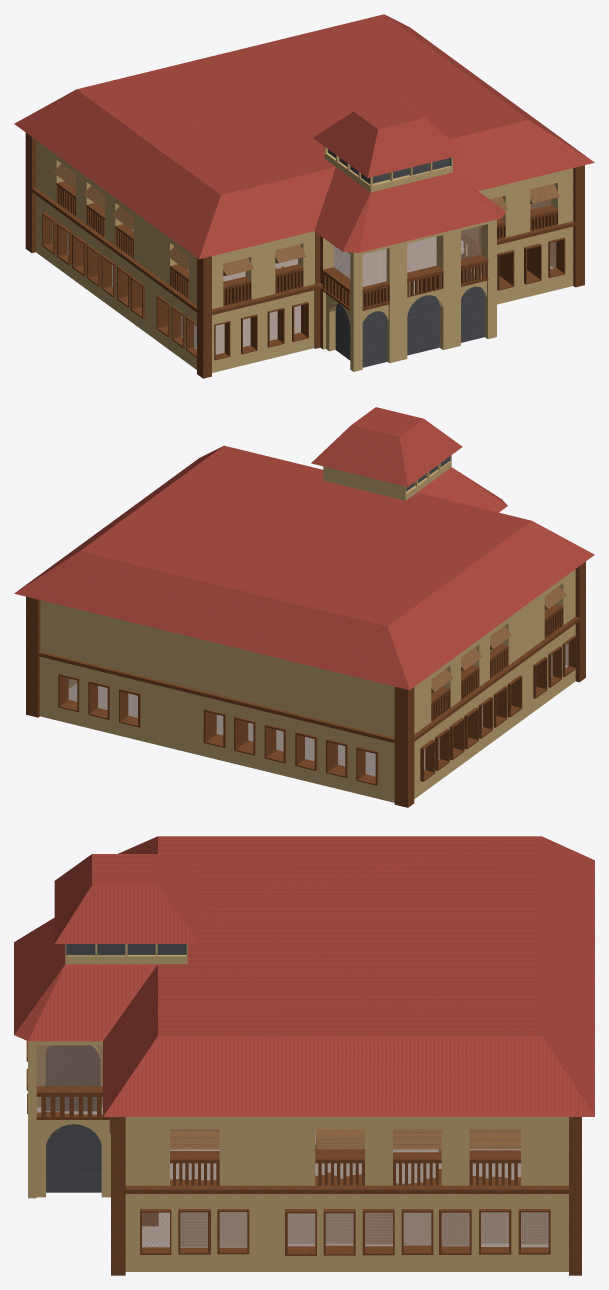
File: old_presidencia.glb
3 renders of one model, top to bottom at view 1: azimuth 30°, elevation 25°; view 2: azimuth 150°, elevation 25°; view 3: azimuth 270°, elevation 25°, orthographic. The views are drawn at different scales.
Visible parts, largest first — view 1: _(Loose Entity); view 2: _(Loose Entity); view 3: _(Loose Entity).
Part boxes in pixels (x1,y1,x2,y2): _(Loose Entity): (14, 14, 594, 378); _(Loose Entity): (14, 407, 594, 807); _(Loose Entity): (14, 836, 594, 1275).
Size of the model in its own units: 46.23 by 23.78 by 44.21.
Materials: 8 (7 with a texture image).
